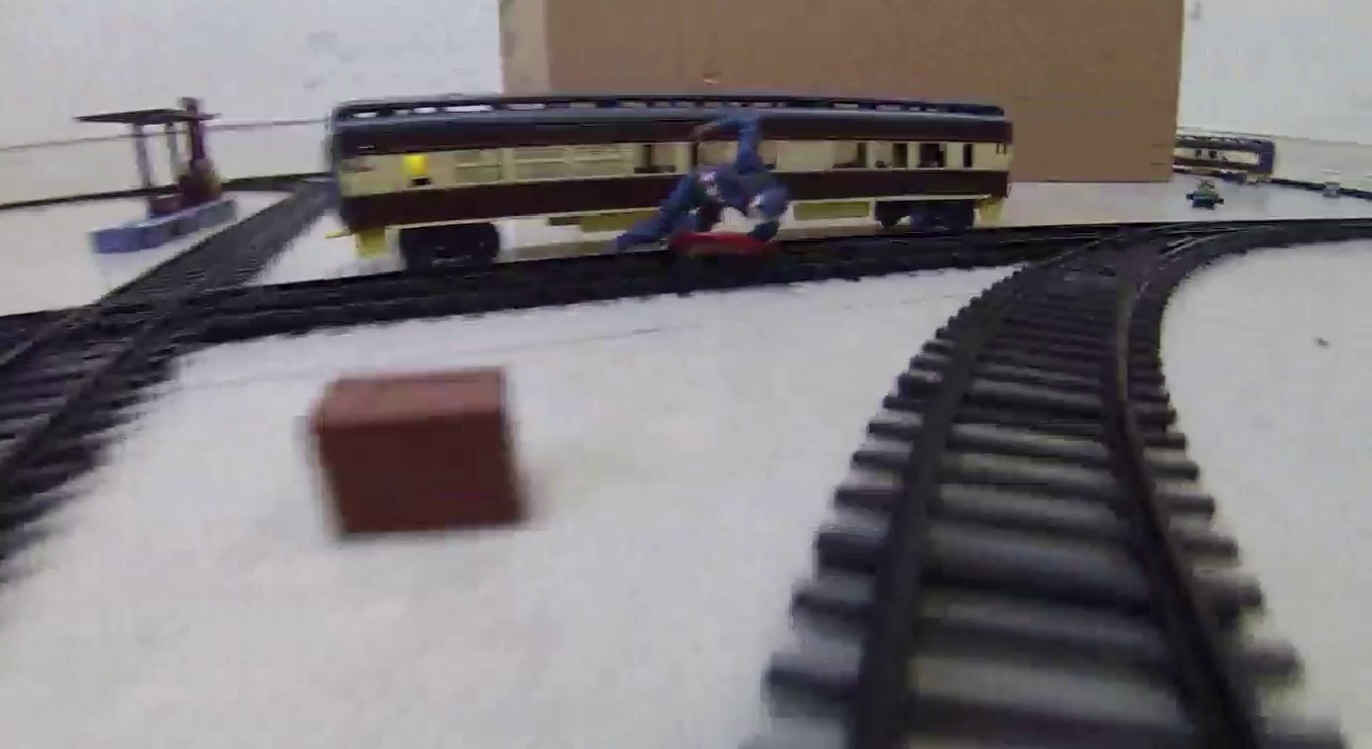box: (306, 366, 526, 533)
people: (615, 113, 792, 246)
